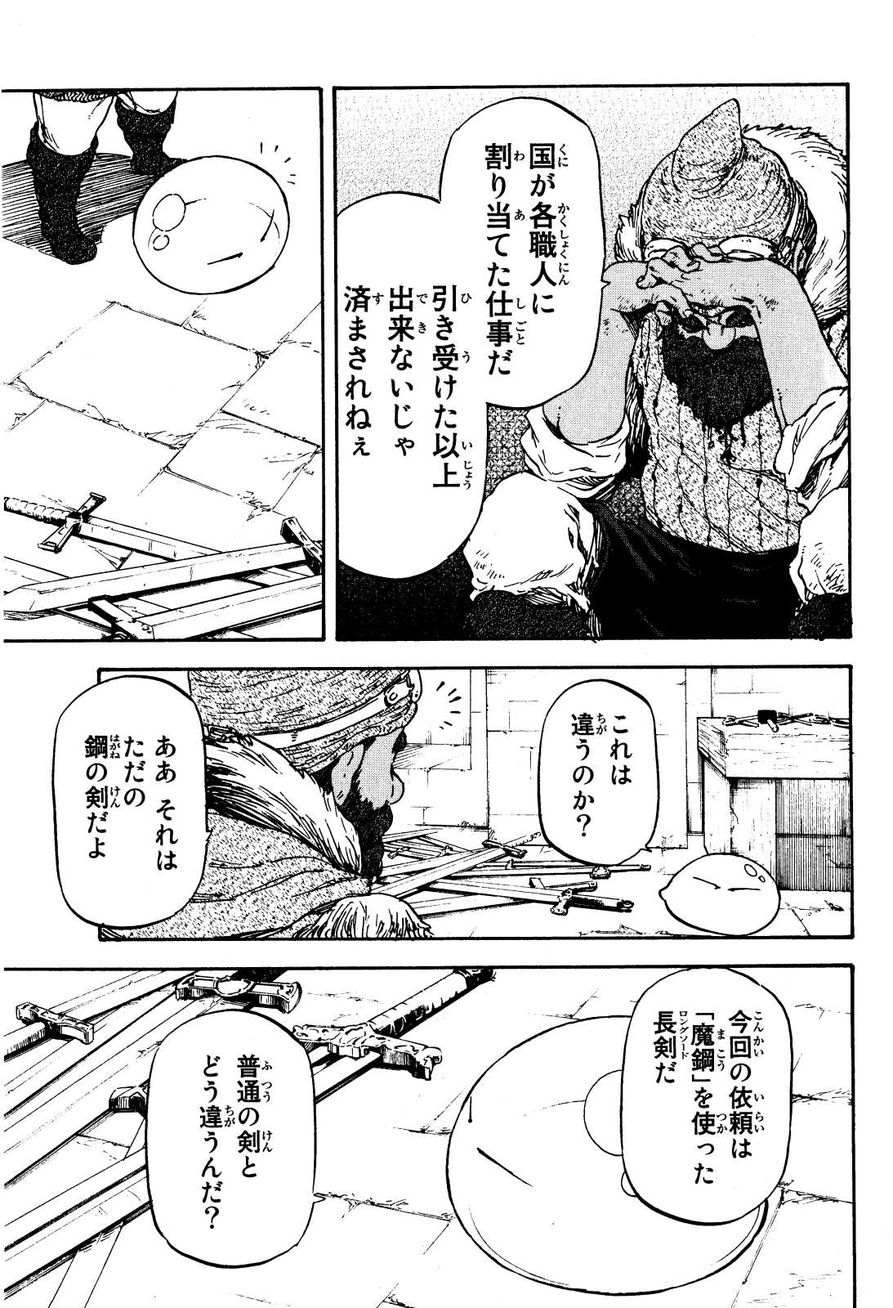bubbles: (335, 93, 614, 584), (141, 1006, 337, 1273), (614, 965, 800, 1231), (49, 674, 219, 934), (530, 674, 662, 871)
